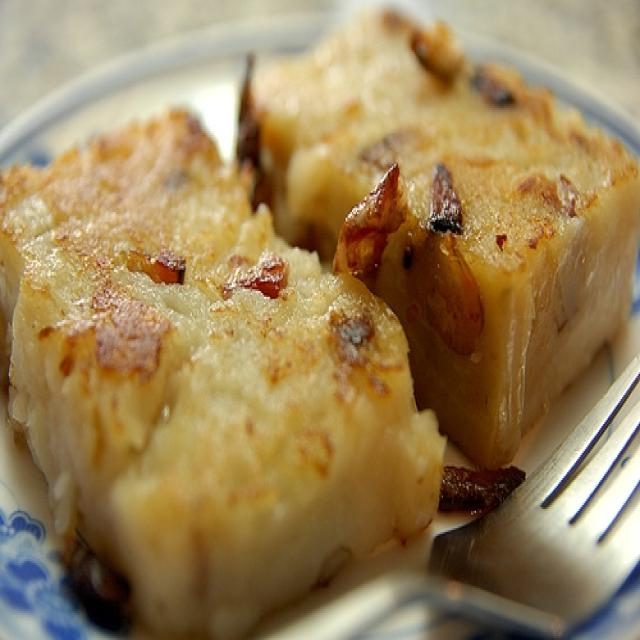蛋糕甜品: (22, 32, 612, 620)
